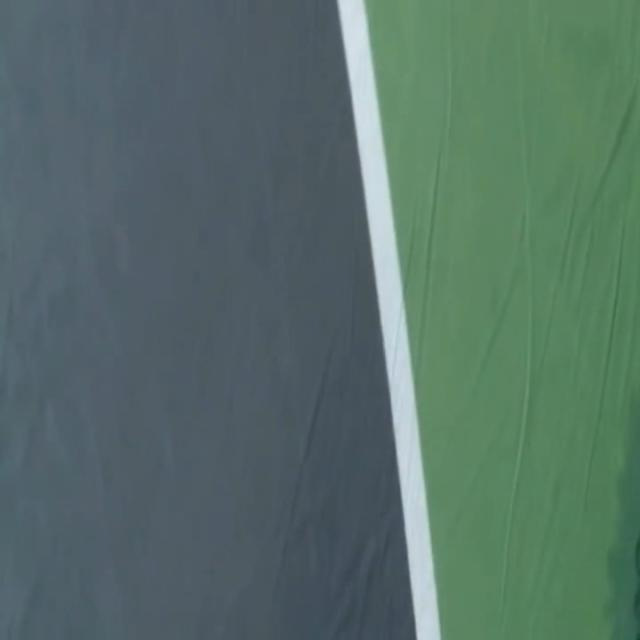right: (337, 0, 440, 639)
